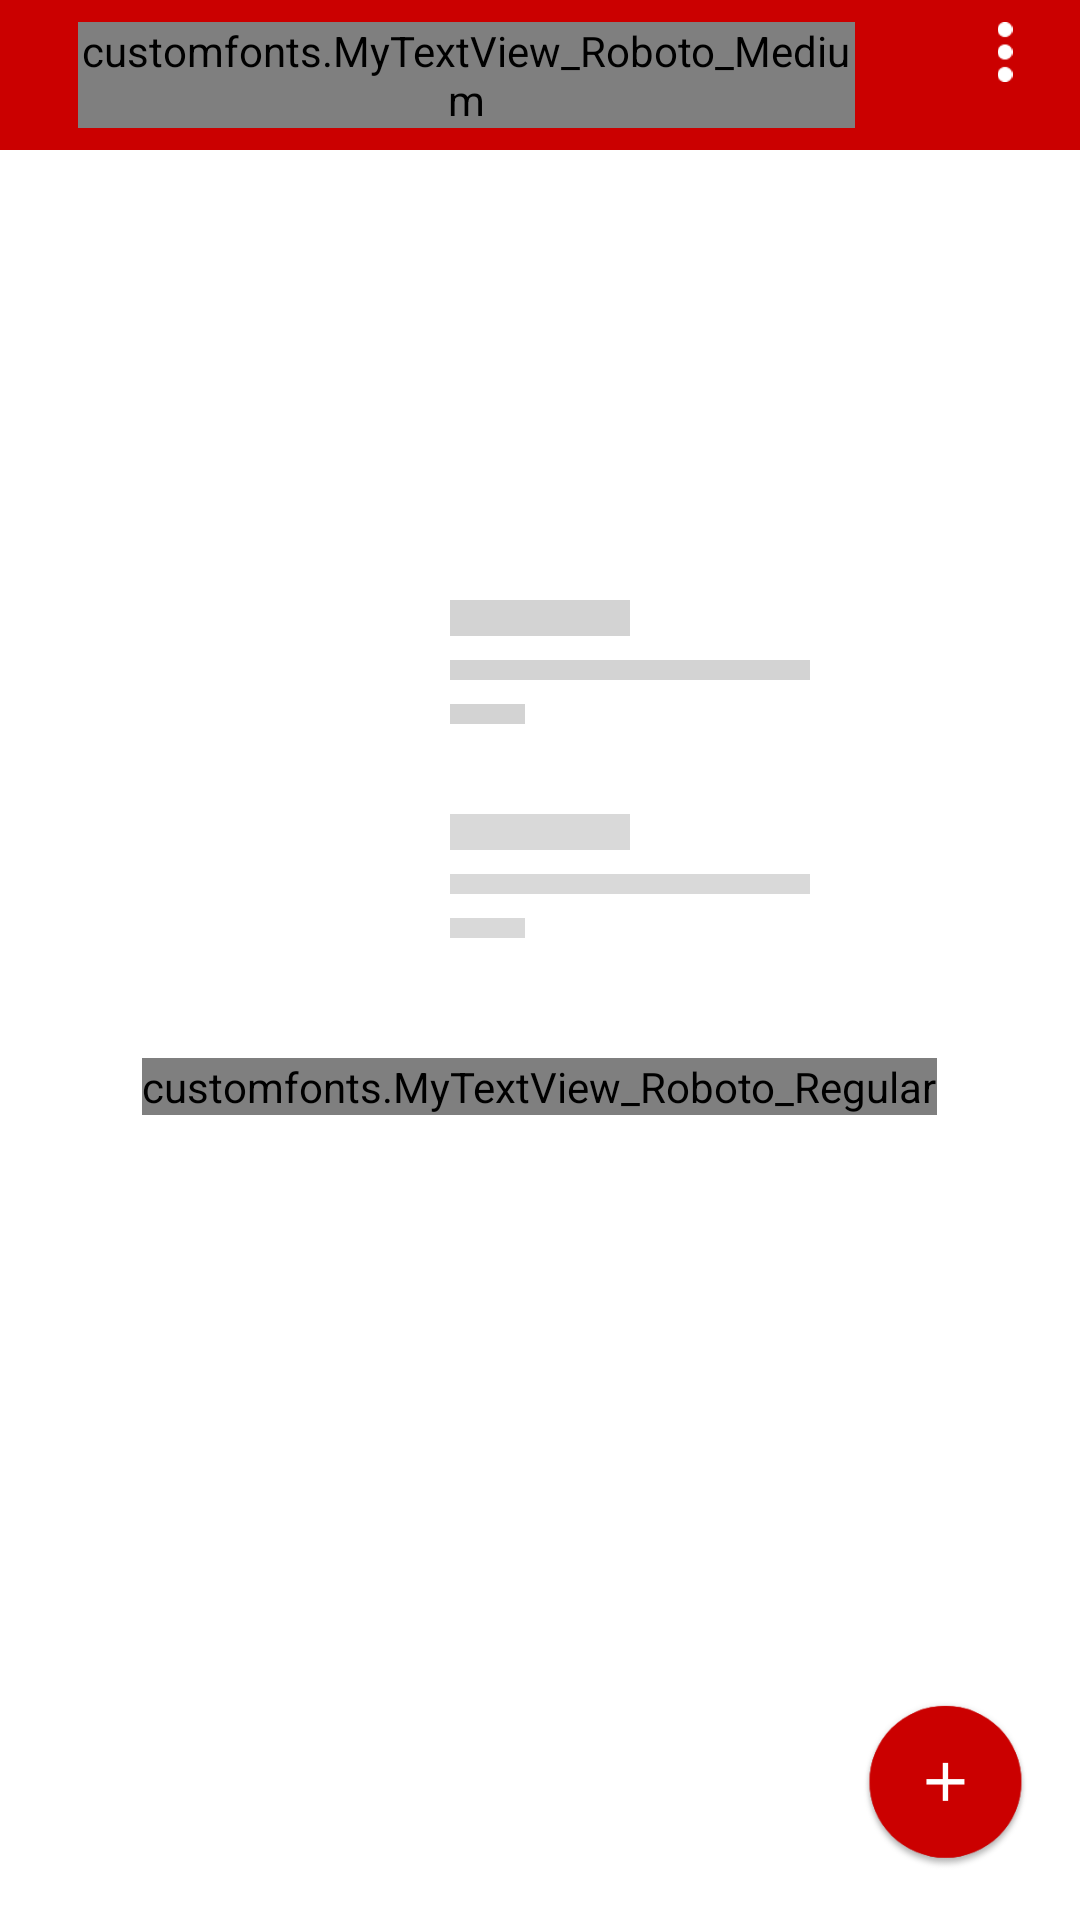

Icon bounding boxes for this 1080x1920 phone screenshot, format (x1, y1, x2, y2):
add: (868, 1705, 1023, 1864)
